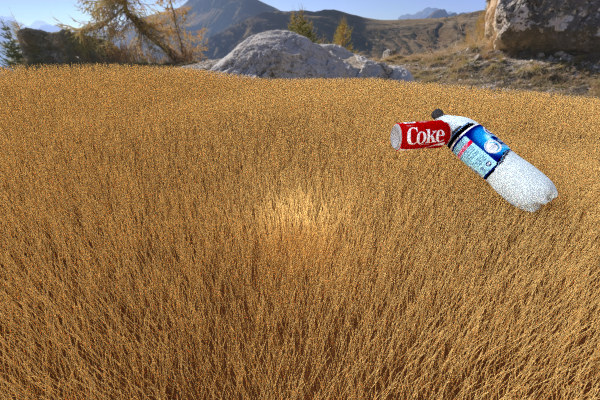Plastic Bottle: (430, 108, 558, 212), (390, 119, 451, 150)
